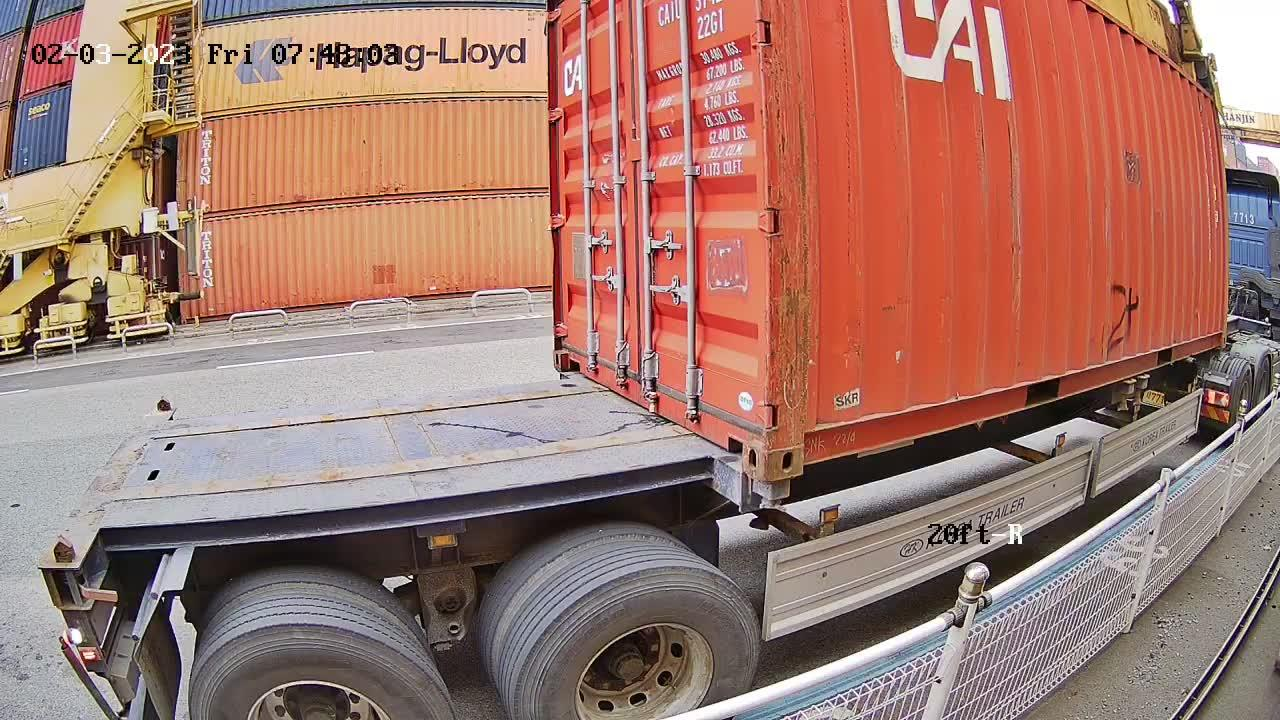Cone: (755, 480, 792, 514)
Hole_L: (765, 393, 835, 483), (553, 324, 589, 380)
Hole_R: (710, 380, 765, 482)
Tire: (514, 558, 763, 719), (191, 625, 453, 717)
